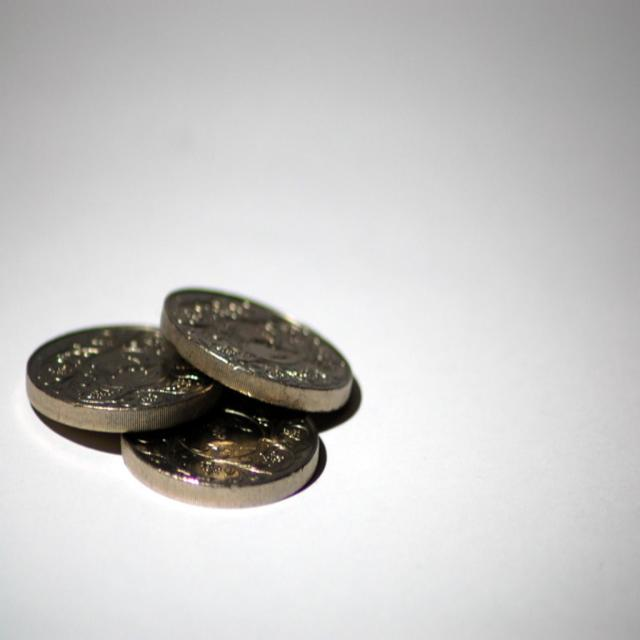Coin: (157, 285, 355, 409), (118, 385, 319, 506), (22, 320, 215, 433)
